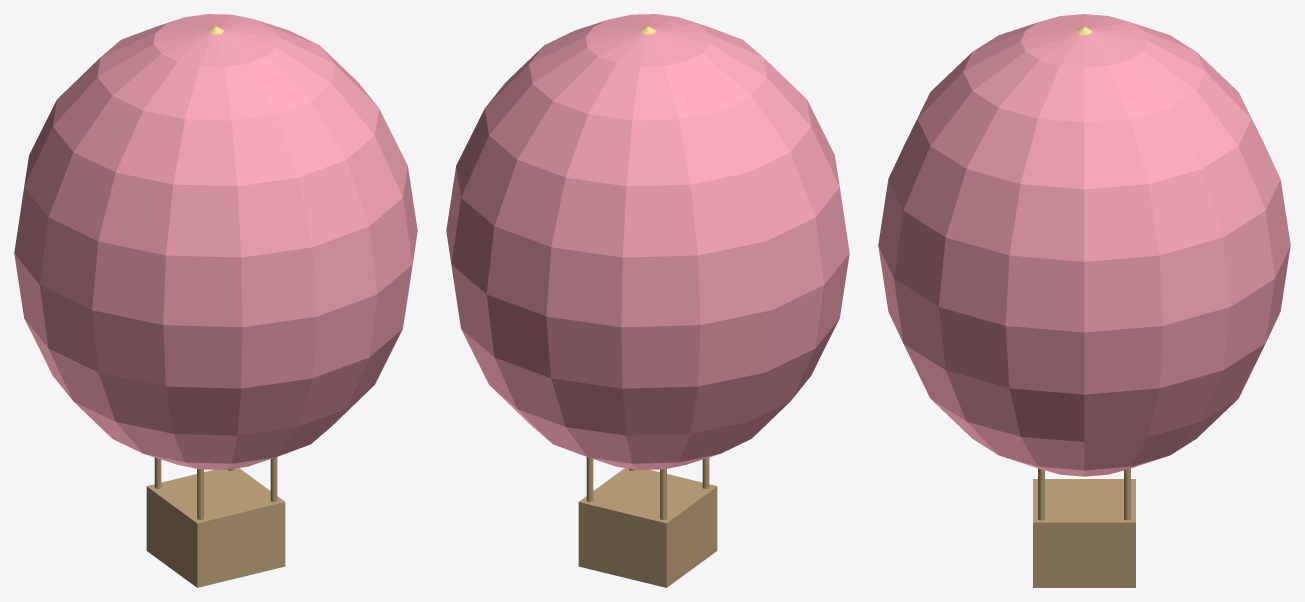
The model's file is lp_ballon.glb.
3 renders of one model, left to right at view 1: azimuth 30°, elevation 25°; view 2: azimuth 150°, elevation 25°; view 3: azimuth 270°, elevation 25°, orthographic.
Visible parts, largest first — view 1: Sphere, Cube; view 2: Sphere, Cube; view 3: Sphere, Cube.
Boxes of the visible parts, x1=… form: Sphere: x1=14, y1=14, x2=417, y2=469; Cube: x1=146, y1=468, x2=285, y2=587; Sphere: x1=446, y1=14, x2=849, y2=469; Cube: x1=578, y1=468, x2=717, y2=587; Sphere: x1=878, y1=14, x2=1290, y2=476; Cube: x1=1033, y1=479, x2=1135, y2=587.
Bounding box in the file's own units: 2.4 × 3.46 × 2.4.
